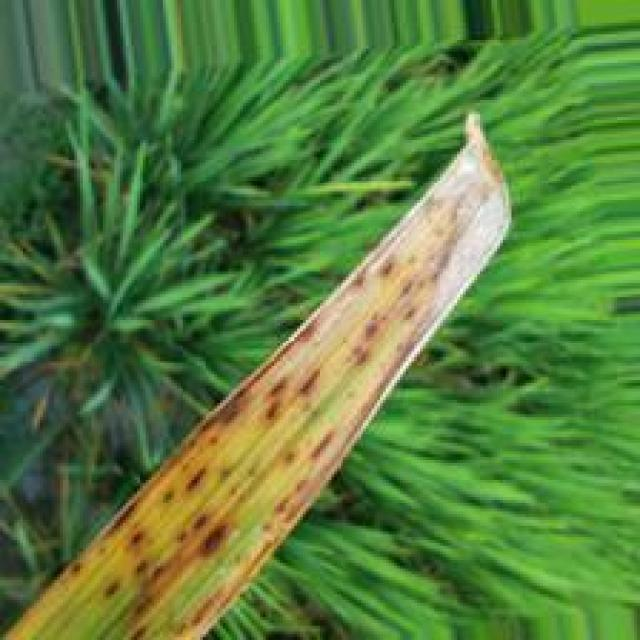Narrow_Brown_Leaf_Spot: (8, 115, 515, 640)
